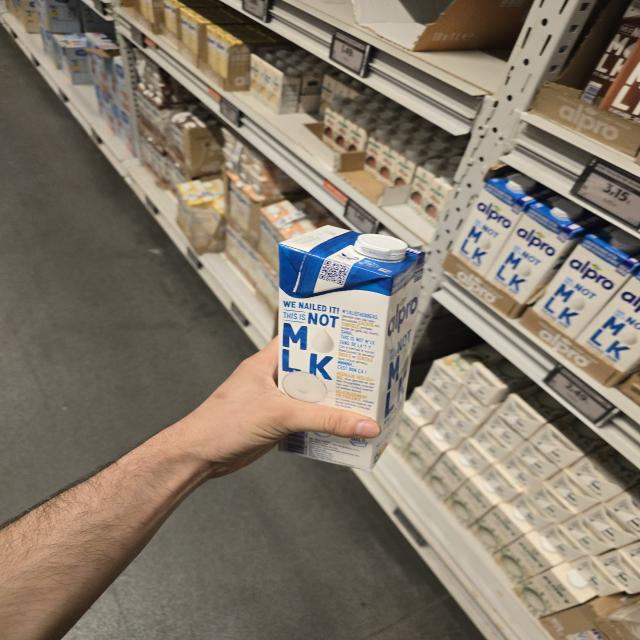Milk: (275, 225, 425, 472)
